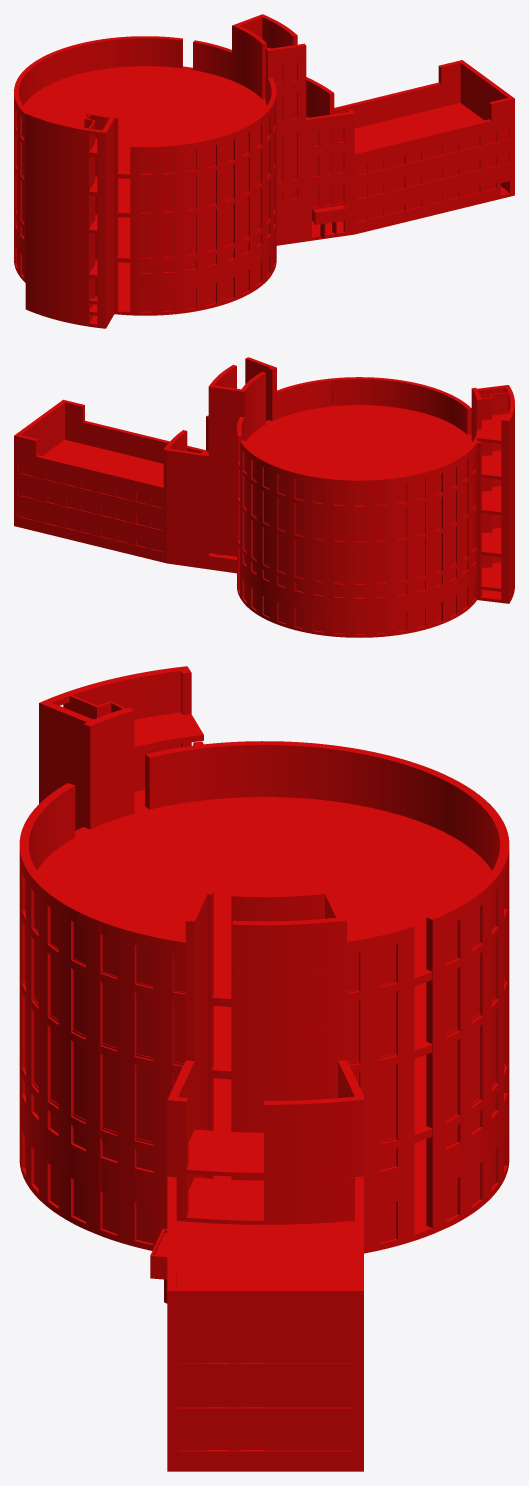
File: zotov-dressed.glb
3 renders of one model, top to bottom at view 1: azimuth 30°, elevation 25°; view 2: azimuth 150°, elevation 25°; view 3: azimuth 270°, elevation 25°, orthographic. The views are drawn at different scales.
Visible parts, largest first — view 1: 1 etazh; view 2: 1 etazh; view 3: 1 etazh.
Boxes of the visible parts, x1,y1,x2,y2 form: 1 etazh: (14, 14, 514, 328); 1 etazh: (14, 357, 514, 637); 1 etazh: (19, 666, 509, 1471).
Size of the model in its own units: 1.58 by 0.6125 by 0.7442.
